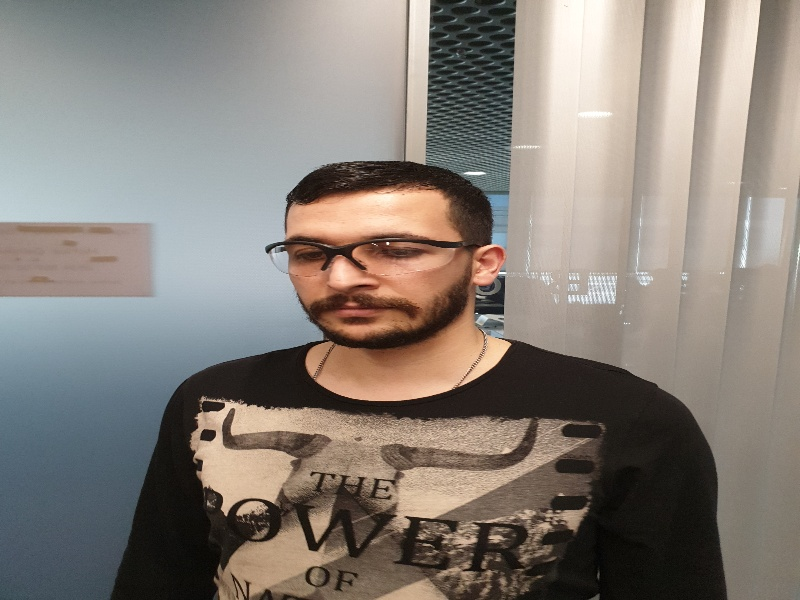Gozluk: (266, 237, 495, 274)
